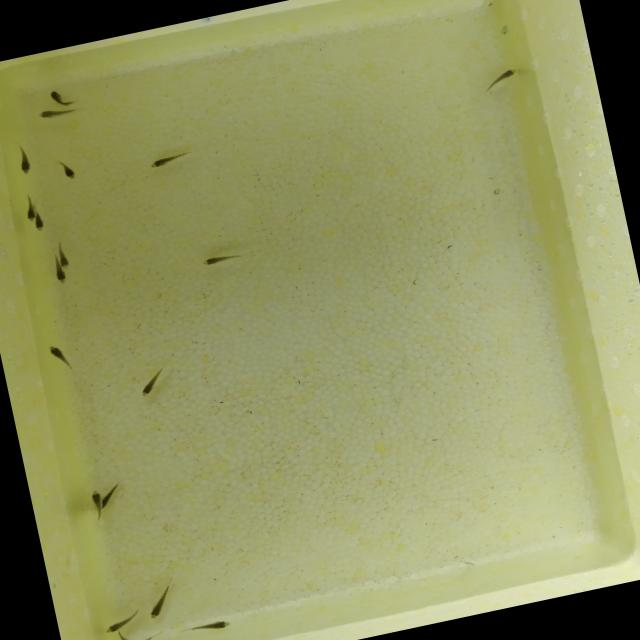fingerling: (188, 614, 238, 640), (142, 587, 176, 622), (134, 365, 168, 399), (196, 248, 248, 269), (102, 610, 140, 635), (45, 337, 72, 372), (146, 150, 186, 172), (34, 105, 70, 126), (488, 65, 524, 86), (46, 81, 71, 110), (100, 482, 124, 506), (13, 154, 37, 178), (88, 492, 105, 521), (110, 631, 164, 640), (31, 212, 50, 233), (56, 248, 73, 266), (24, 202, 39, 220), (52, 264, 66, 282), (63, 162, 77, 180)
